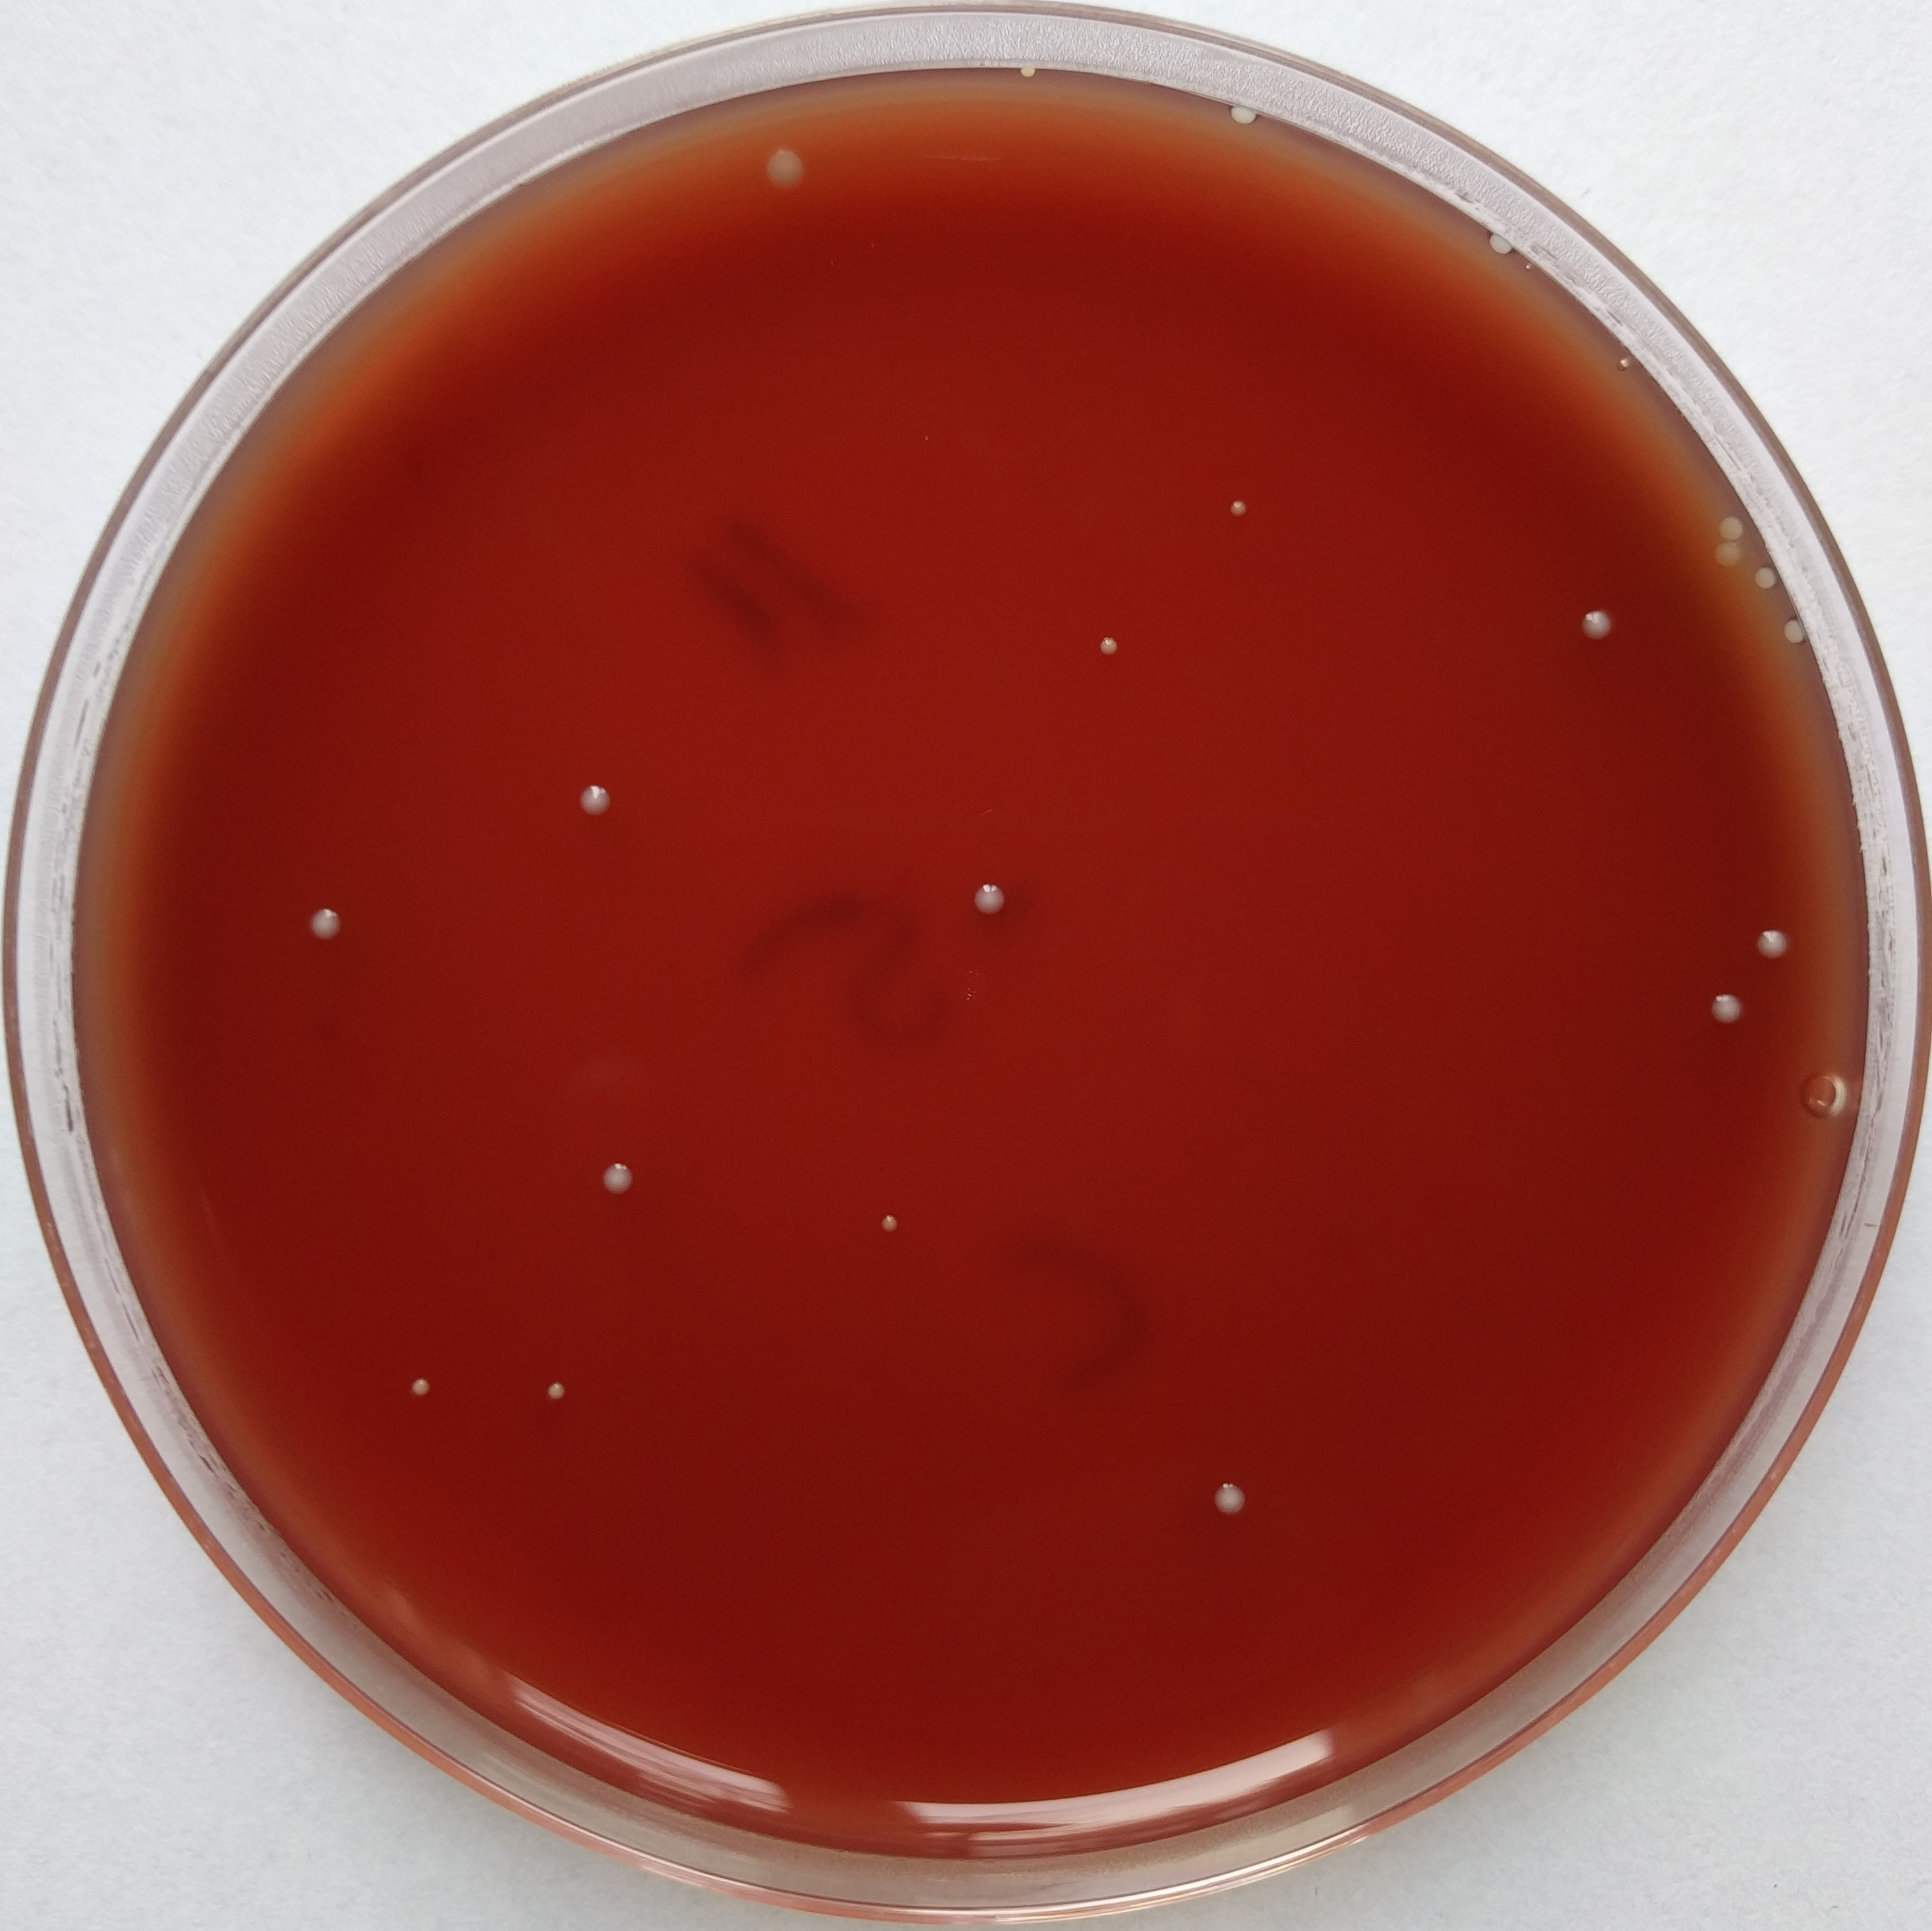sp24: (546, 744, 635, 845), (573, 1139, 673, 1224), (1685, 965, 1764, 1036), (299, 870, 373, 941), (749, 140, 825, 193), (1198, 1464, 1264, 1523), (1739, 905, 1806, 962), (1686, 488, 1752, 541), (955, 866, 1025, 914), (1211, 474, 1267, 529), (529, 1365, 578, 1427), (394, 1365, 453, 1409), (864, 1192, 917, 1240), (1089, 622, 1133, 679), (1213, 95, 1271, 138), (1566, 596, 1616, 645), (1771, 605, 1824, 645), (1471, 226, 1517, 267), (1745, 557, 1782, 601), (1009, 50, 1039, 88), (1711, 541, 1743, 576)
